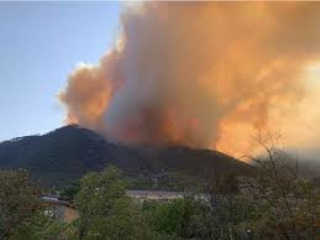smoke: (51, 5, 295, 163)
